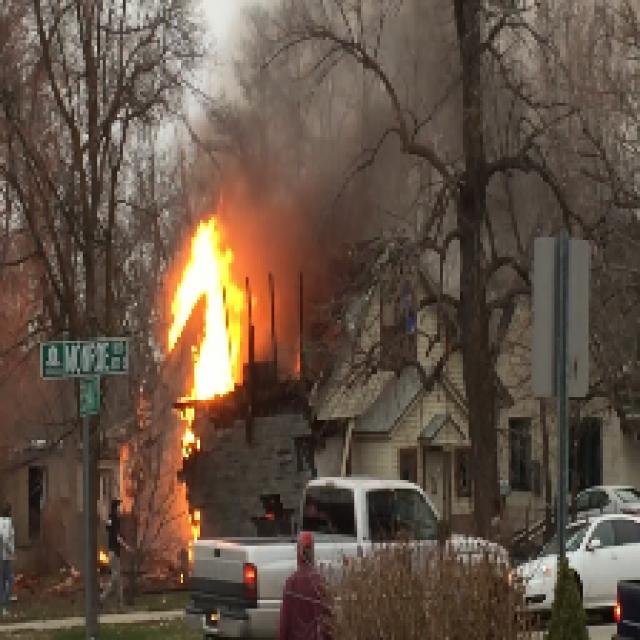fire: (170, 229, 248, 397)
smoke: (246, 128, 340, 298)
